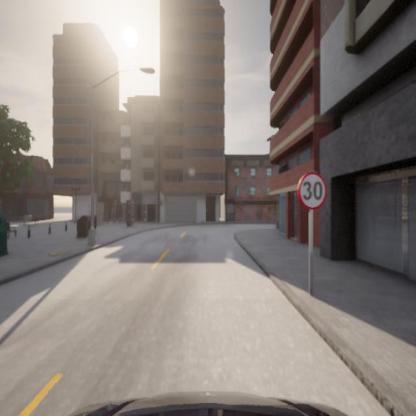traffic_sign_30: (298, 170, 328, 209)
